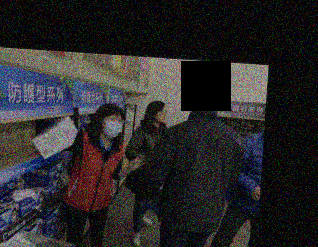with_mask: (101, 113, 124, 138)
without_mask: (155, 107, 169, 122)
